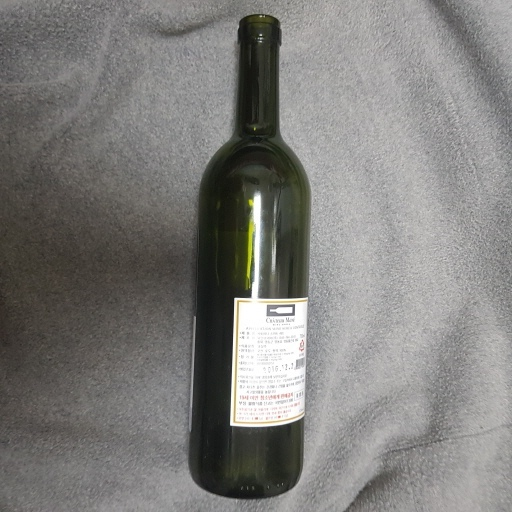Glass_2: (181, 15, 316, 498)
